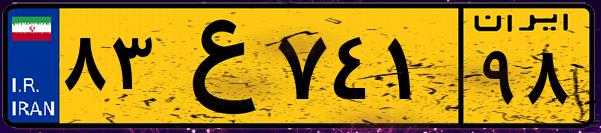1: (385, 28, 445, 110)
3: (110, 28, 158, 98)
4: (330, 28, 385, 110)
7: (270, 28, 330, 110)
8: (57, 26, 110, 100), (525, 38, 570, 115)
9: (475, 38, 525, 113)
ع: (158, 12, 270, 120)
